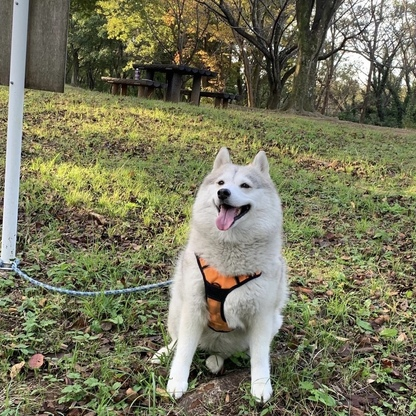husky: (146, 142, 295, 407)
